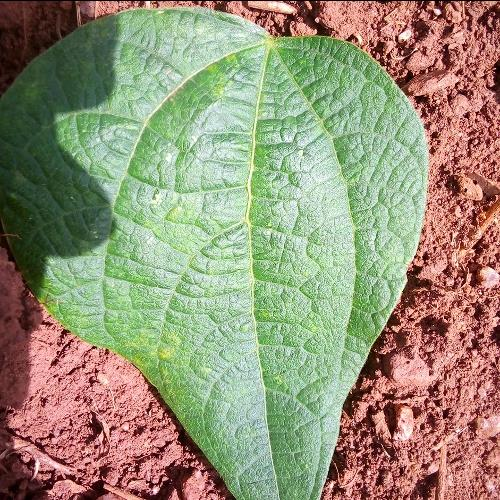sehat: (18, 46, 384, 396)
